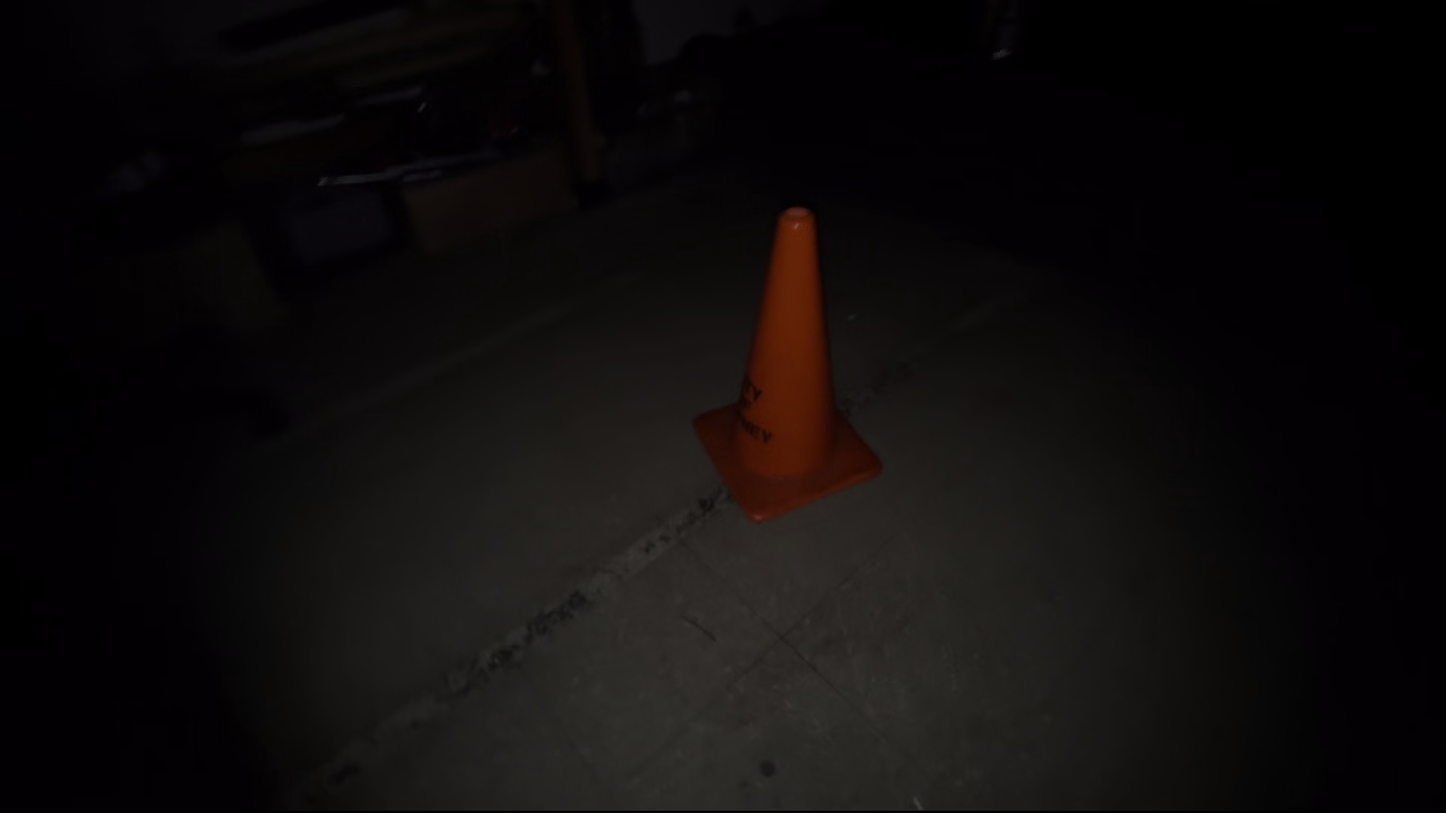traffic_cone: (690, 205, 884, 523)
